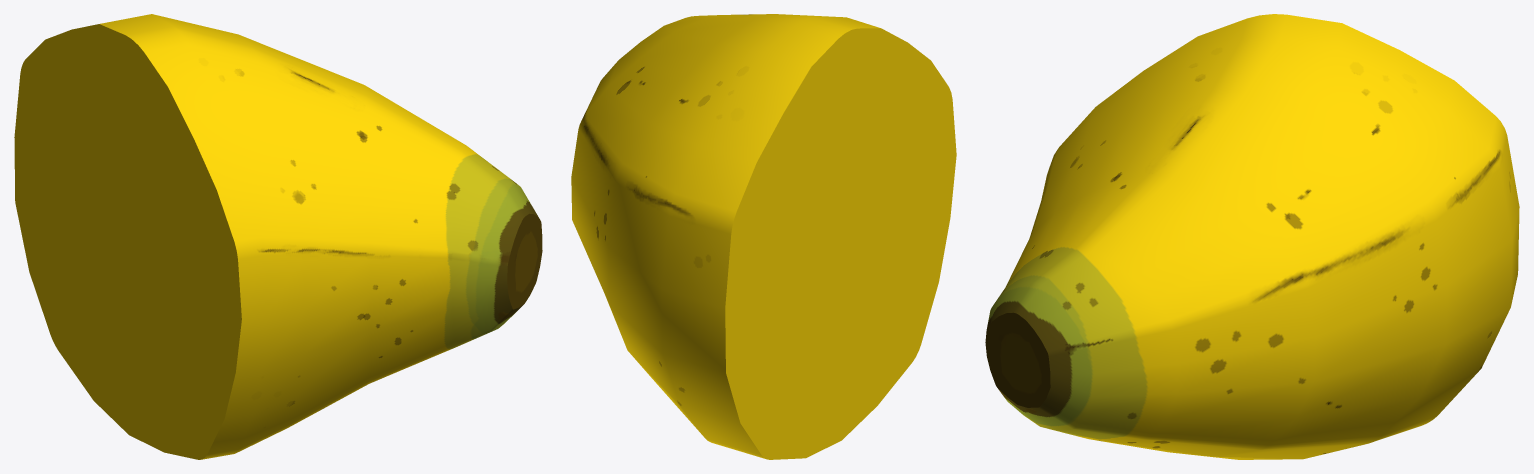
File: bottom_banana.fbx
3 renders of one model, left to right at view 1: azimuth 30°, elevation 25°; view 2: azimuth 150°, elevation 25°; view 3: azimuth 270°, elevation 25°, orthographic. The views are drawn at different scales.
Parts seen in each view (by area): view 1: bottom; view 2: bottom; view 3: bottom.
Boxes of the visible parts, bbox=[...] form: bottom: bbox=[14, 14, 542, 459]; bottom: bbox=[571, 14, 956, 459]; bottom: bbox=[985, 14, 1519, 459].
Bounding box in the file's own units: 68.6 × 84.5 × 98.09.
